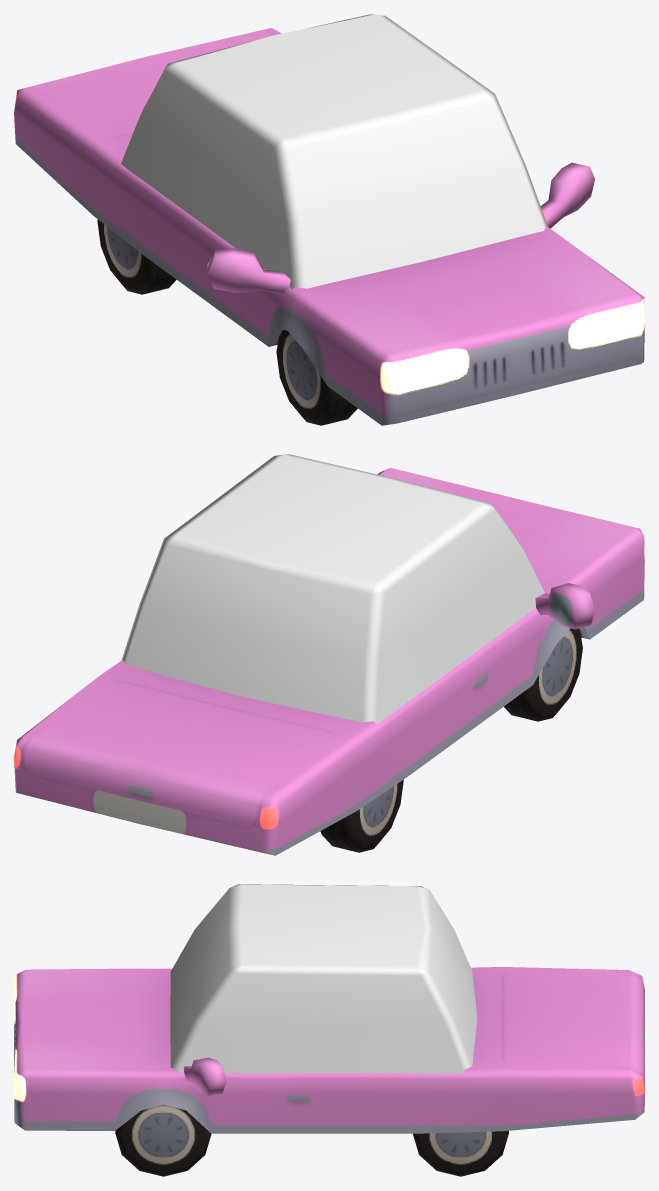
The model's file is Car_69.fbx.
3 renders of one model, top to bottom at view 1: azimuth 30°, elevation 25°; view 2: azimuth 150°, elevation 25°; view 3: azimuth 270°, elevation 25°, orthographic. The views are drawn at different scales.
Parts seen in each view (by area): view 1: Car_69; view 2: Car_69; view 3: Car_69.
Boxes of the visible parts, <box> form: Car_69: <box>14,14,644,425</box>; Car_69: <box>14,454,644,855</box>; Car_69: <box>14,884,644,1176</box>.
Size of the model in its own units: 97.01 by 58.27 by 165.
